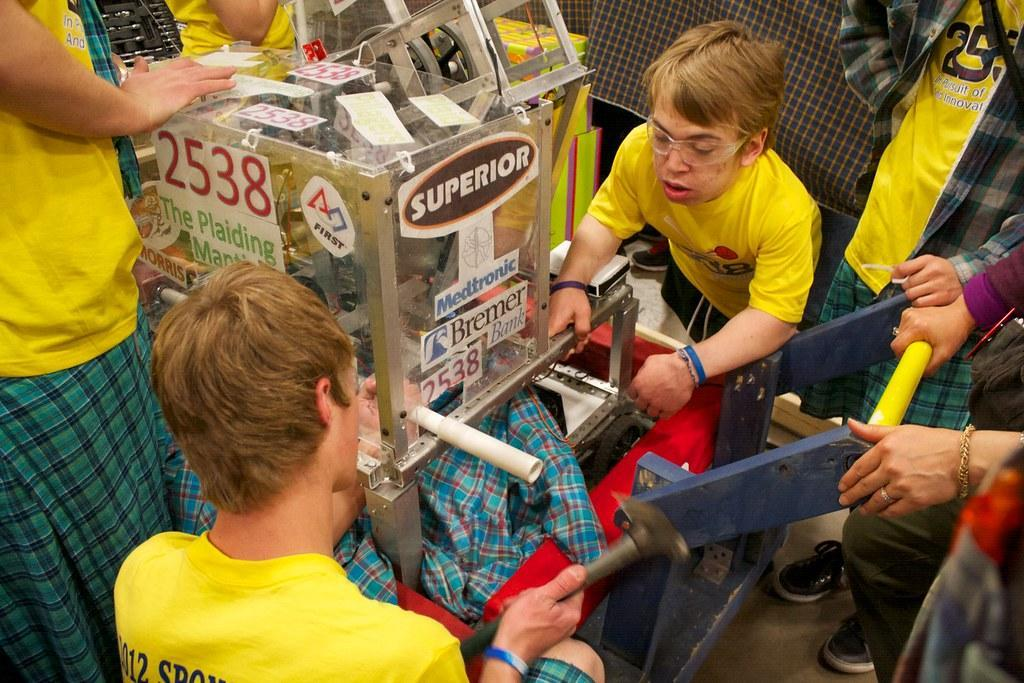robot: (120, 0, 762, 683)
